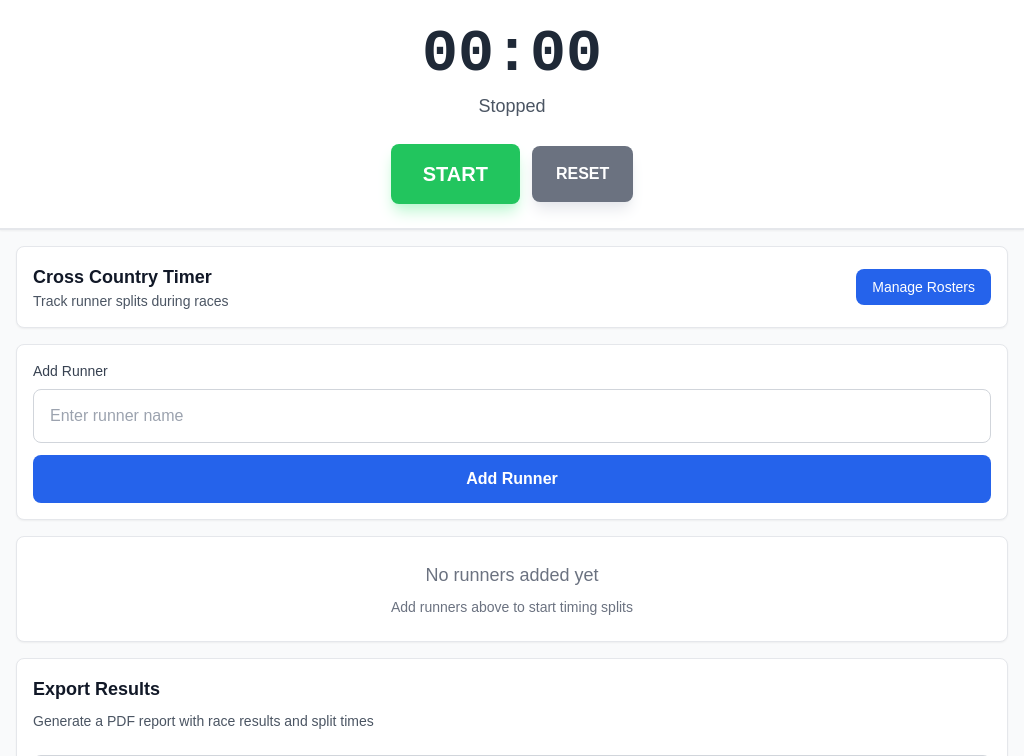
Test: Reset Functionality › should show confirmation dialog when reset is clicked
Click the button with aria-label "Reset timer and clear all data" at point(583, 174), box [532, 146, 633, 202]
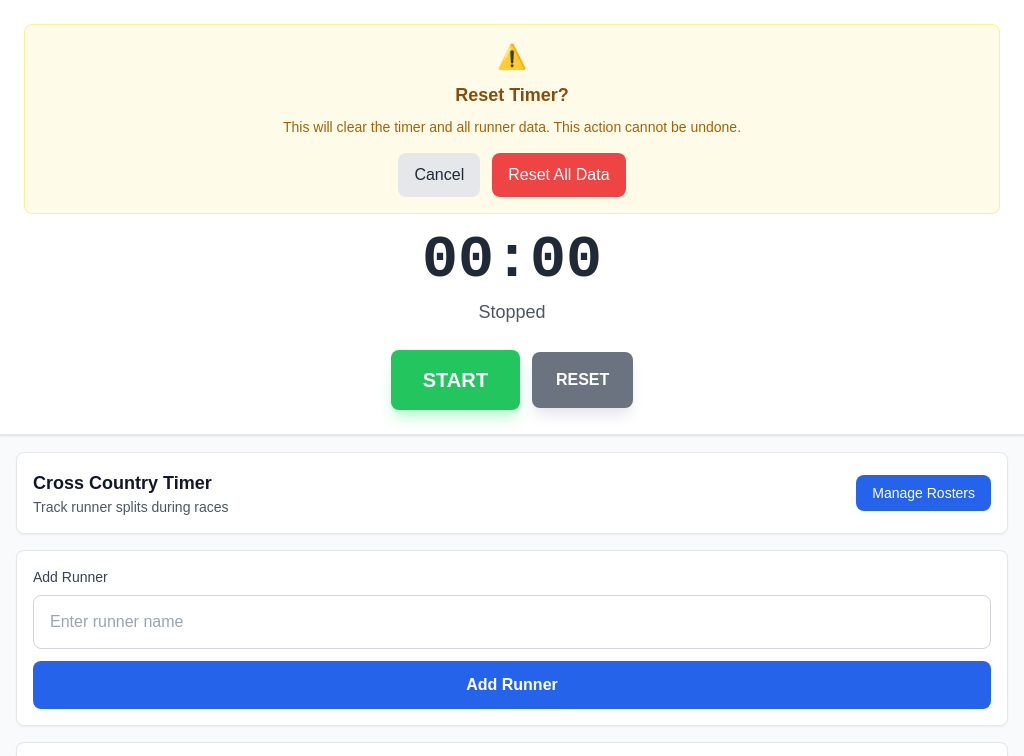
expect the heading "Reset Timer?" is shown: met, box [455, 85, 569, 105]
expect the text "This will clear the timer and all runner data. This action cannot be undone." is shown: met, box [283, 119, 741, 135]
expect the button "Cancel" is shown: met, box [398, 153, 480, 197]
